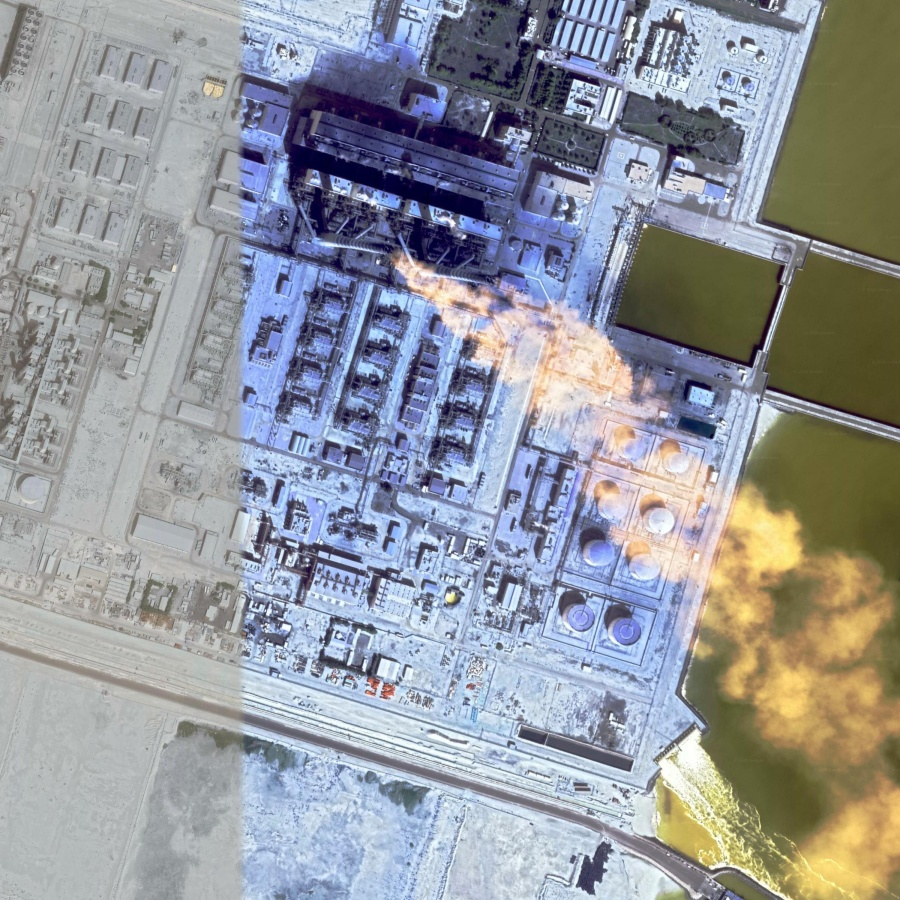PowerPlant: (181, 57, 729, 689)
